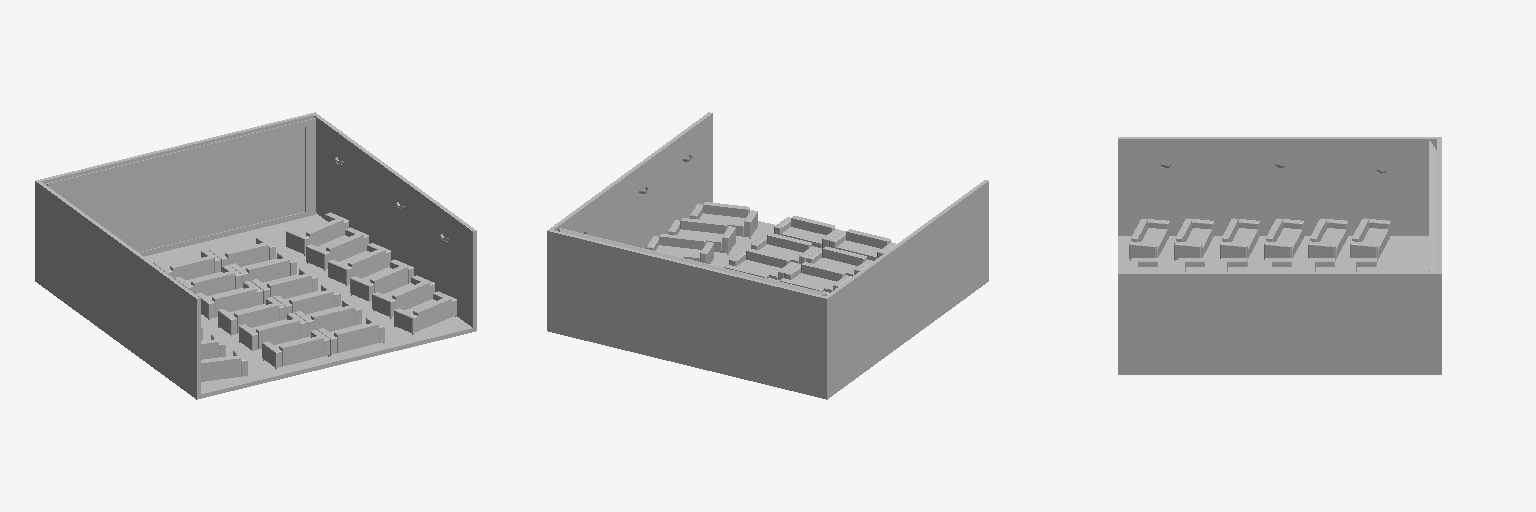
The model's file is cinema.obj.
3 views of the same model, side by side, from view 1: azimuth 30°, elevation 25°; view 2: azimuth 150°, elevation 25°; view 3: azimuth 270°, elevation 25° (orthographic).
Parts seen in each view (by area): view 1: Layer0_001; view 2: Layer0_001; view 3: Layer0_001.
Boxes of the visible parts, x1=… form: Layer0_001: x1=35, y1=112, x2=476, y2=399; Layer0_001: x1=547, y1=112, x2=988, y2=399; Layer0_001: x1=1118, y1=137, x2=1441, y2=374.
Bounding box in the file's own units: 420 × 144 × 420.